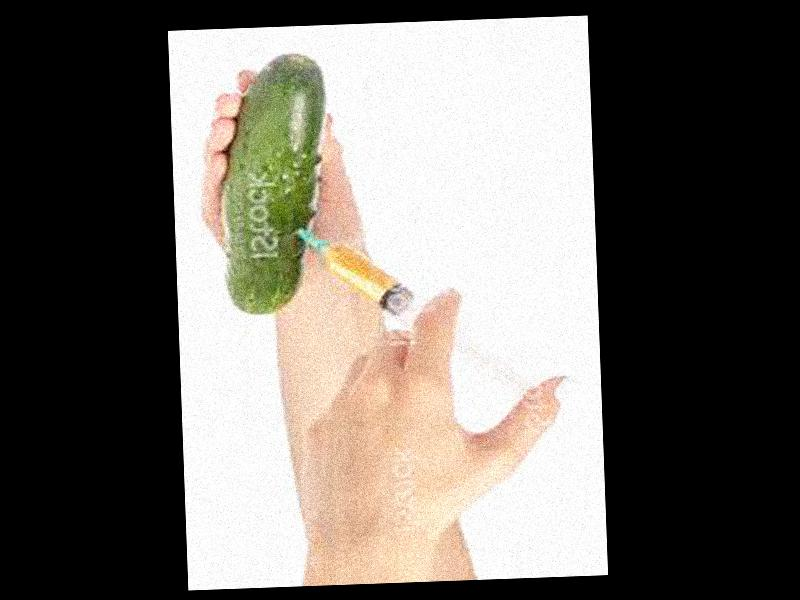Cucumber: (223, 50, 332, 315)
